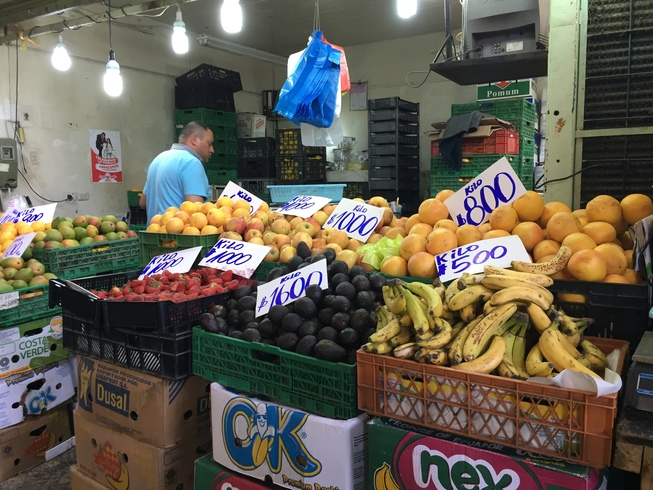precio: (441, 154, 525, 227), (430, 235, 534, 288), (254, 259, 335, 319), (201, 233, 270, 289), (327, 194, 383, 248), (214, 177, 276, 224), (1, 198, 63, 237), (142, 250, 202, 284), (281, 189, 321, 223), (1, 235, 39, 267)
